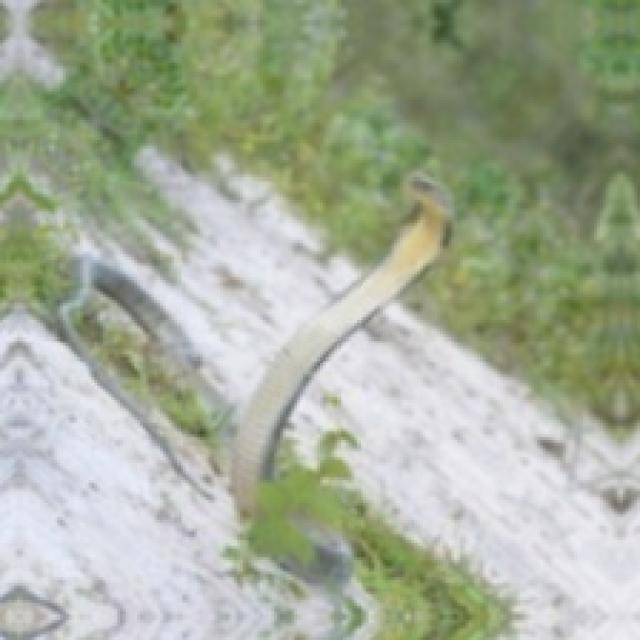king cobra: (231, 174, 449, 514)
